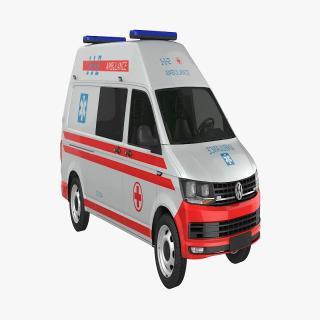Ambulance: (44, 13, 280, 297)
